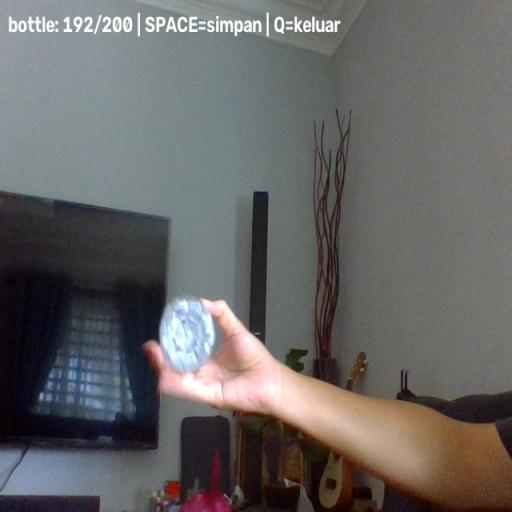Bottle: (158, 296, 217, 374)
